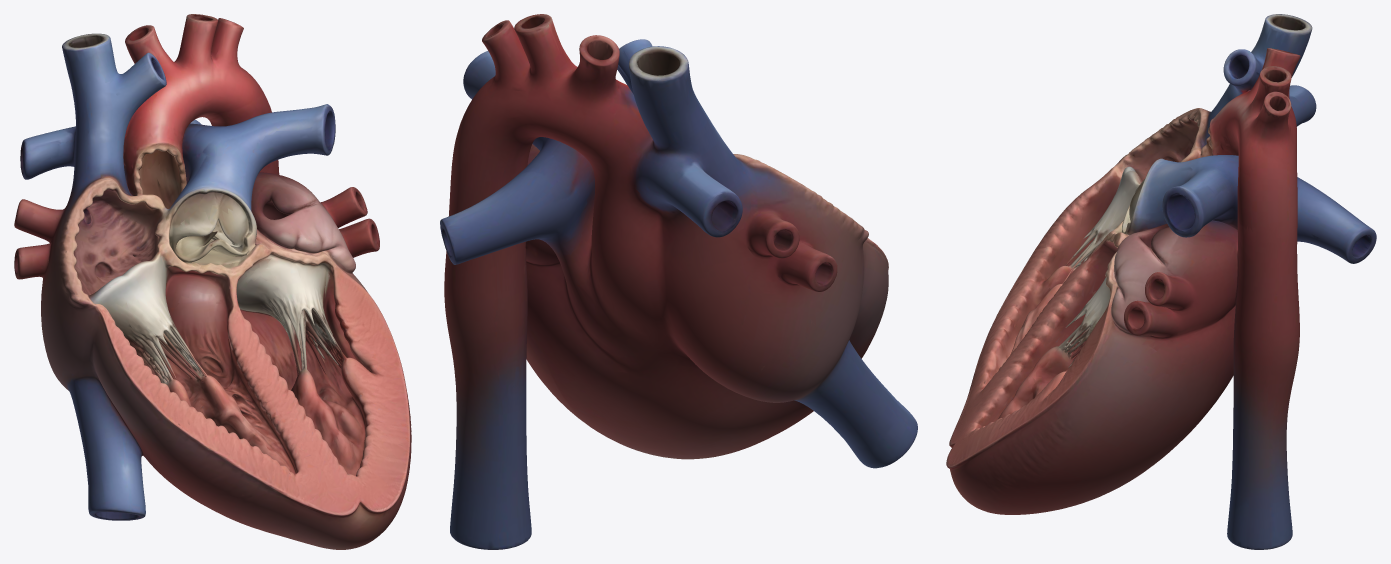
3 renders of one model, left to right at view 1: azimuth 30°, elevation 25°; view 2: azimuth 150°, elevation 25°; view 3: azimuth 270°, elevation 25°, orthographic. The views are drawn at different scales.
Visible parts, largest first — view 1: node_0; view 2: node_0; view 3: node_0.
Boxes of the visible parts, box(x1,y1,x2,y2) form: node_0: box(14, 14, 411, 549); node_0: box(440, 14, 917, 549); node_0: box(946, 14, 1376, 549).
Size of the model in its own units: 0.7552 by 0.965 by 0.8498.
1 material, 1 textured.
